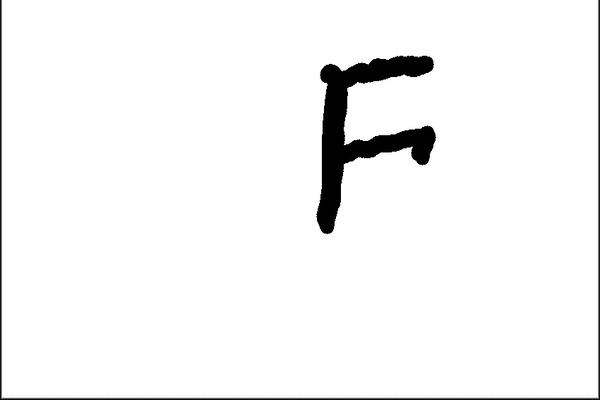F: (310, 50, 439, 236)
